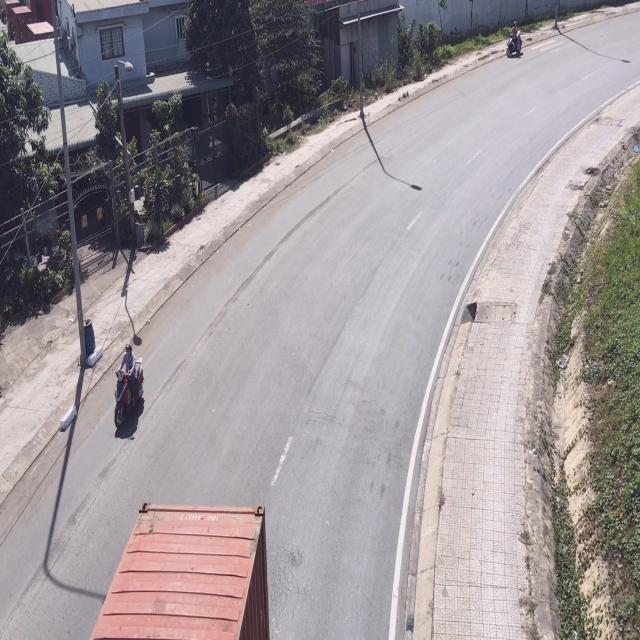motorbike: (114, 336, 144, 432), (504, 22, 524, 56)
truck: (86, 501, 270, 640)
